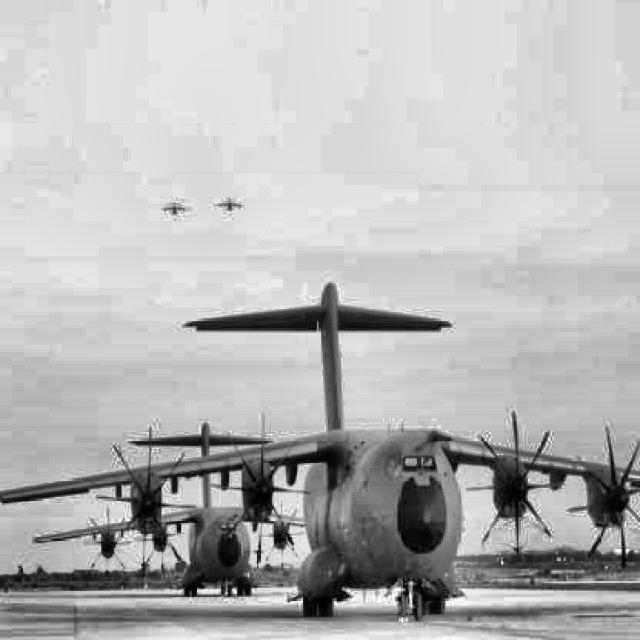A400M: (0, 282, 640, 622), (33, 422, 305, 596), (158, 202, 190, 216), (214, 198, 246, 212)
